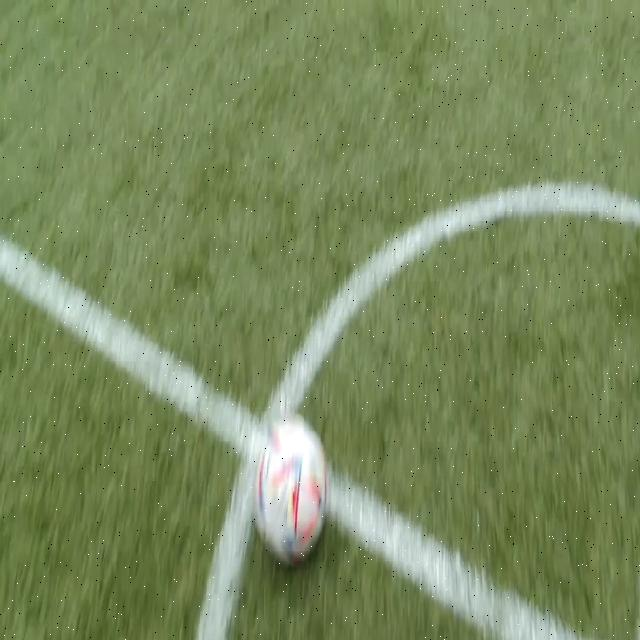ball: (254, 416, 328, 565)
